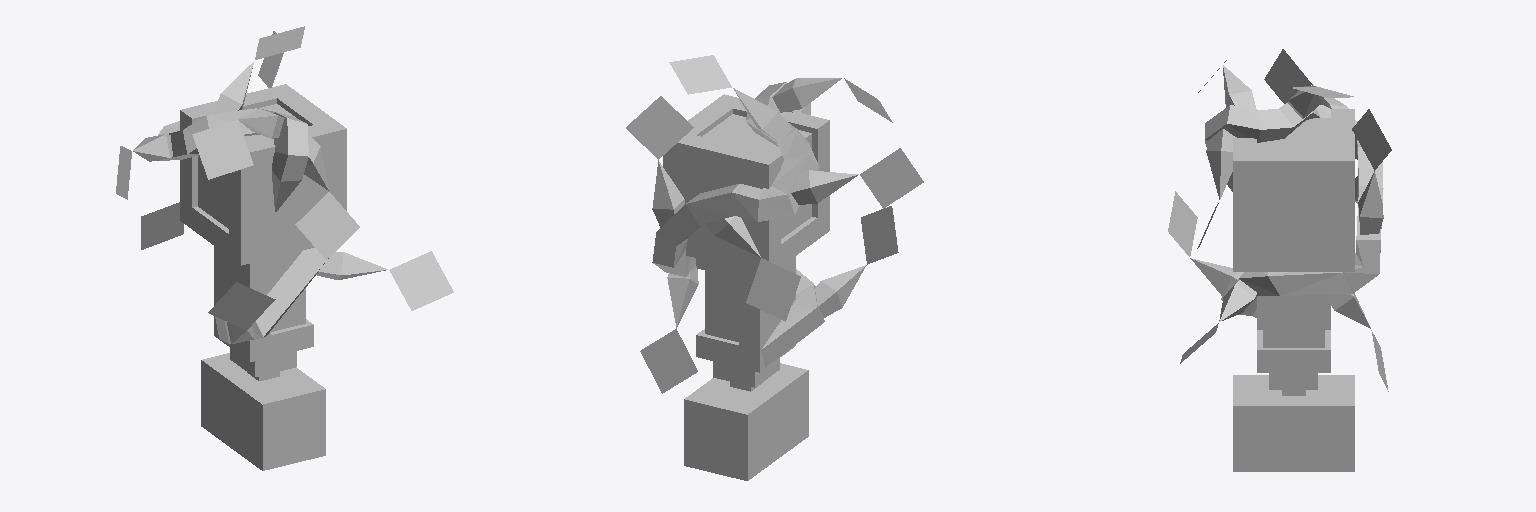
Rendered from arm_hammer_l.obj.
3 views of the same model, side by side, from view 1: azimuth 30°, elevation 25°; view 2: azimuth 150°, elevation 25°; view 3: azimuth 270°, elevation 25° (orthographic).
Visible parts, largest first — view 1: ARM_LEFT_HAMMER_Cube.031, ARM_LEFT_DECO_WOOD_Cube.014; view 2: ARM_LEFT_HAMMER_Cube.031, ARM_LEFT_DECO_WOOD_Cube.014; view 3: ARM_LEFT_HAMMER_Cube.031, ARM_LEFT_DECO_WOOD_Cube.014.
Boxes of the visible parts, <box> form: ARM_LEFT_HAMMER_Cube.031: <box>180,84,346,470</box>; ARM_LEFT_DECO_WOOD_Cube.014: <box>116,26,453,343</box>; ARM_LEFT_HAMMER_Cube.031: <box>663,94,829,480</box>; ARM_LEFT_DECO_WOOD_Cube.014: <box>626,55,923,393</box>; ARM_LEFT_HAMMER_Cube.031: <box>1233,109,1354,471</box>; ARM_LEFT_DECO_WOOD_Cube.014: <box>1168,49,1391,391</box>.
Bounding box in the file's own units: 0.8743 × 1.09 × 0.5727.